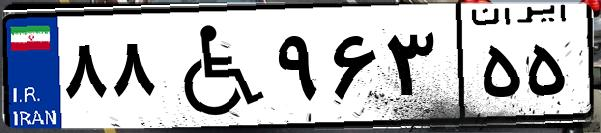3: (385, 28, 445, 110)
5: (475, 38, 525, 113), (525, 38, 570, 115)
6: (330, 28, 385, 110)
8: (57, 26, 110, 100), (110, 28, 158, 98)
9: (270, 28, 330, 110)
ژ (معلولین و جانبازان): (158, 12, 270, 120)
